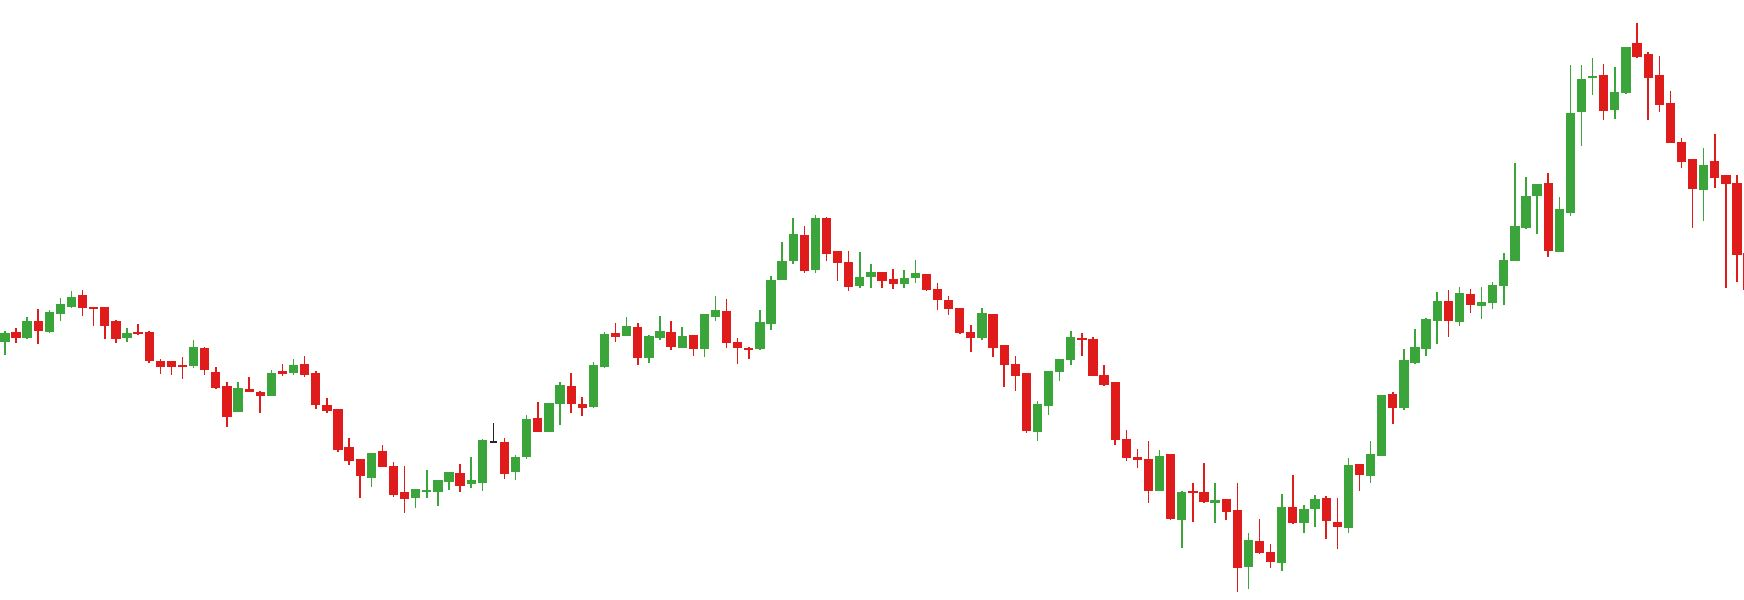buy: (1175, 481, 1258, 600)
